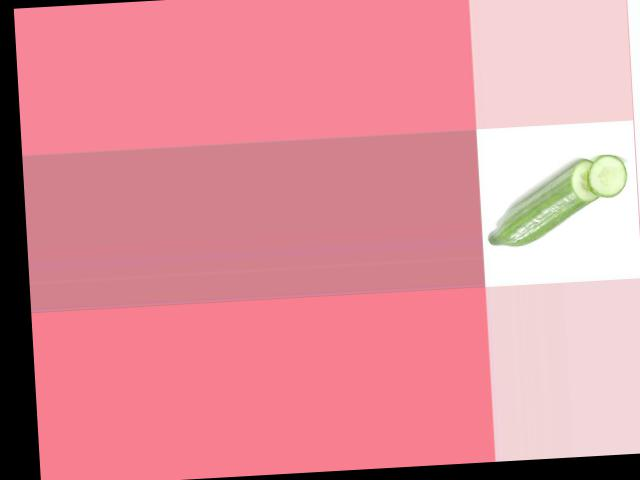cucumber: (484, 158, 603, 247)
